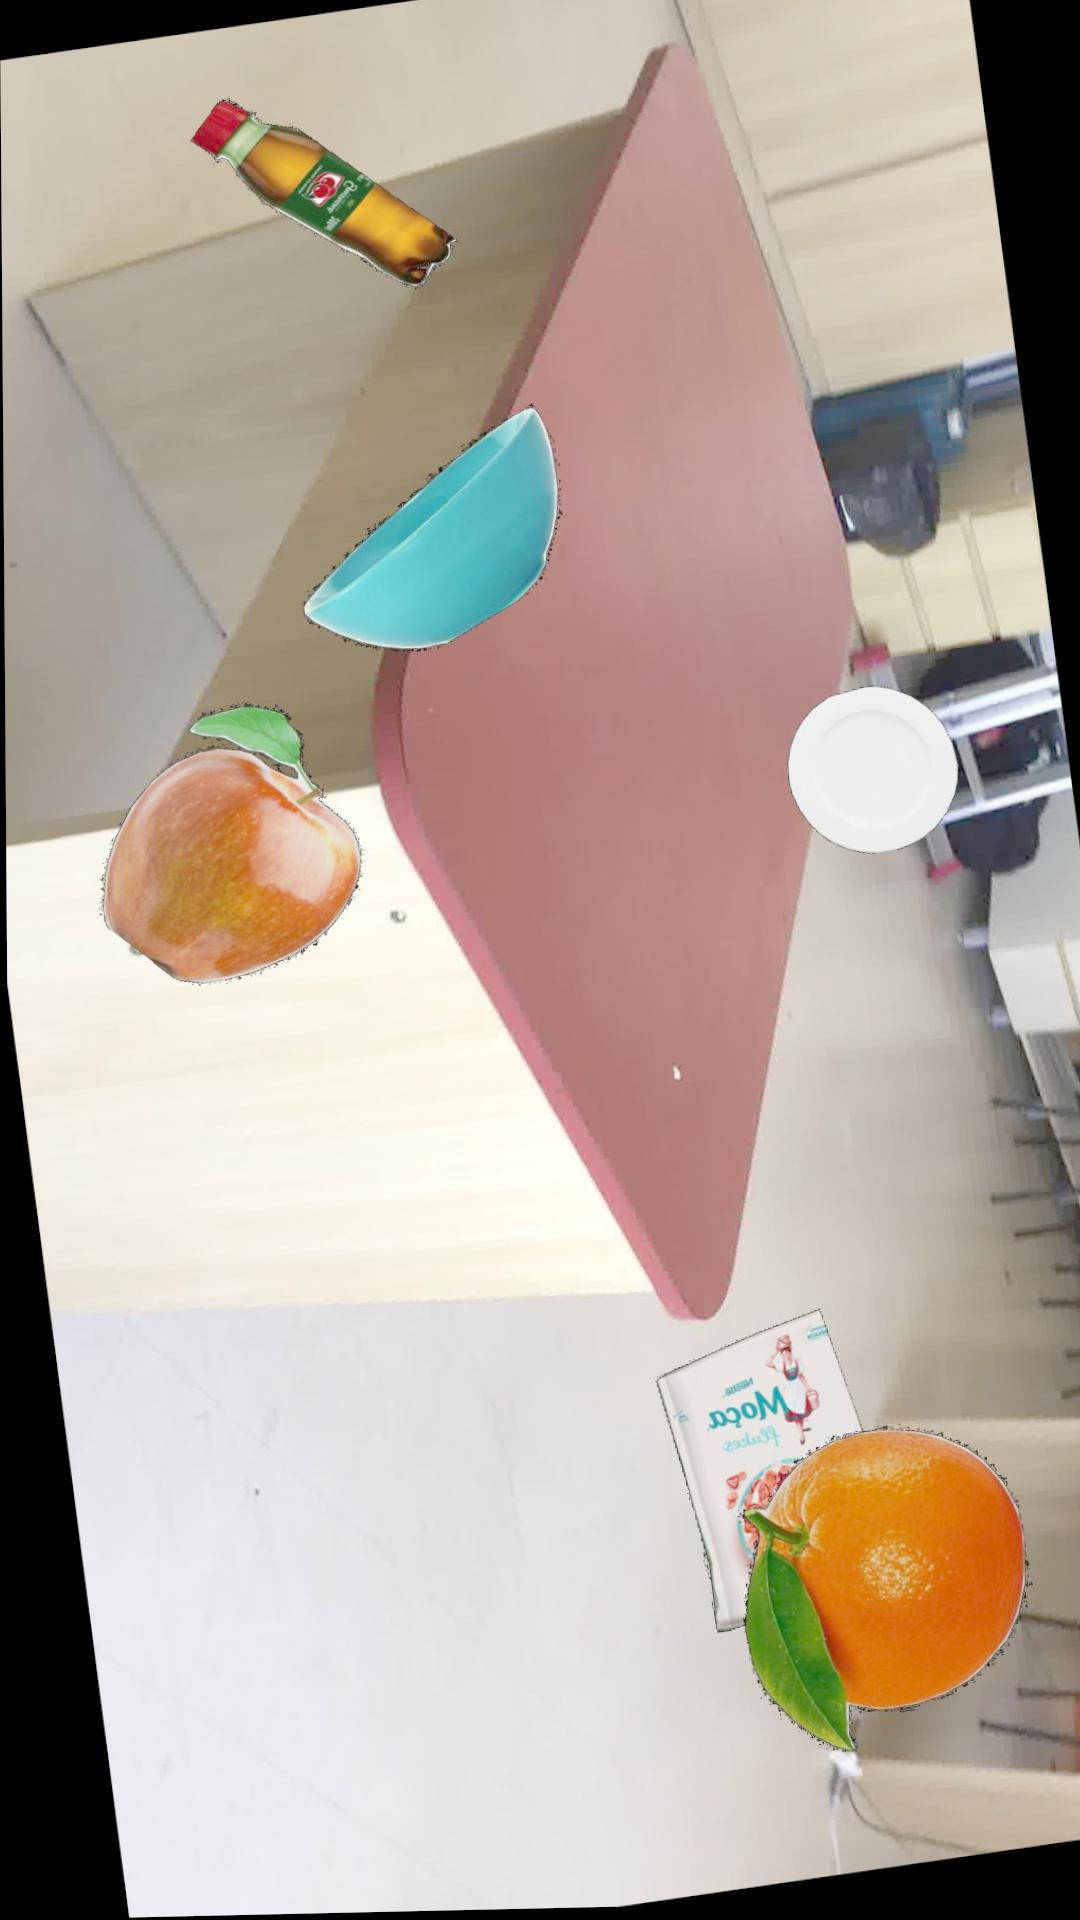apple: (98, 704, 357, 985)
bowl: (299, 410, 556, 654)
corn flakes: (651, 1312, 858, 1636)
guarana: (187, 99, 454, 289)
orange: (737, 1431, 1025, 1756)
plate: (783, 690, 955, 858)
